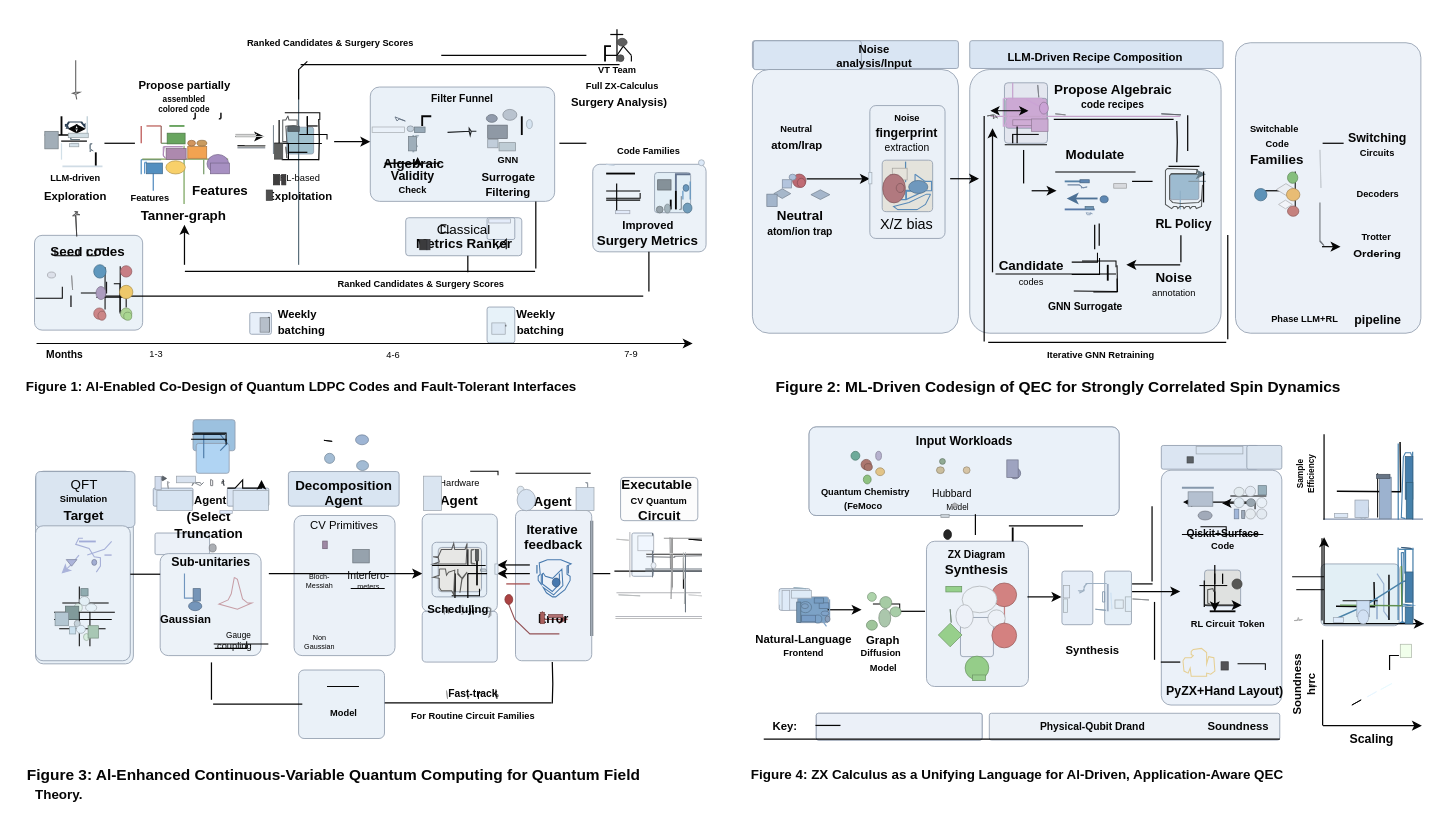
The diagram is 1452 pixels wide and 827 high, and some of its shapes have lost their labels. Each missing label, with the centre of its shape:
Benchmarking: (1209,457)
— Input Metrocs: (898,726)
